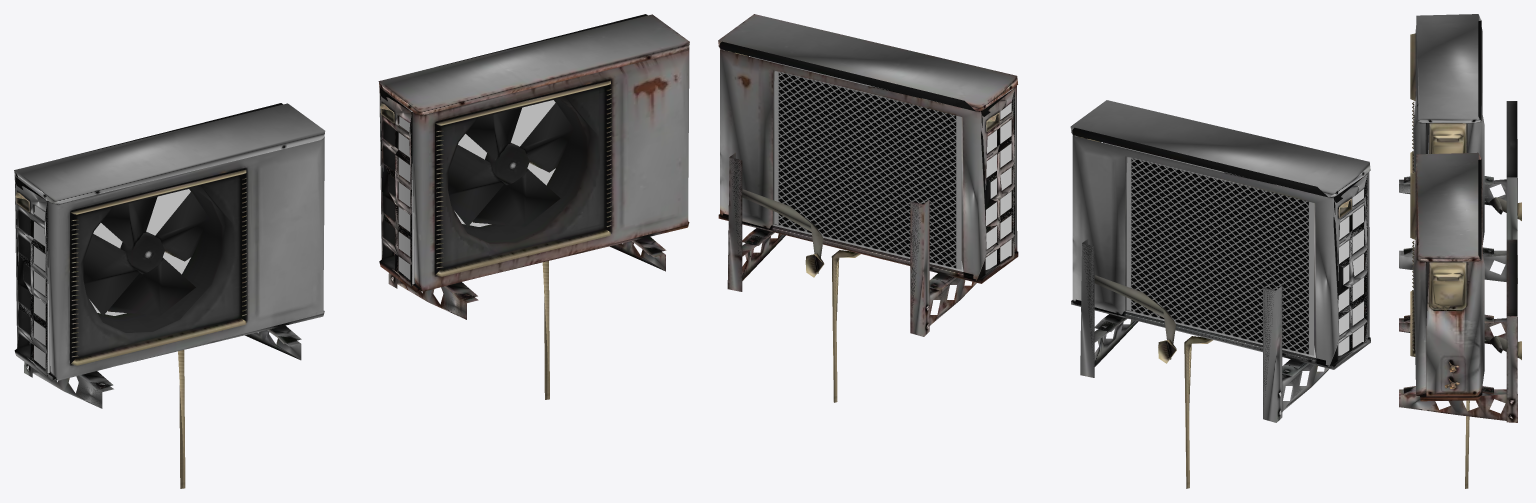
The model's file is exterior_aircon_unit.glb.
3 renders of one model, left to right at view 1: azimuth 30°, elevation 25°; view 2: azimuth 150°, elevation 25°; view 3: azimuth 270°, elevation 25°, orthographic. The views are drawn at different scales.
Parts seen in each view (by area): view 1: exterior_aircon_unit_rusted, exterior_aircon_unit; view 2: exterior_aircon_unit, exterior_aircon_unit_rusted; view 3: exterior_aircon_unit_rusted, exterior_aircon_unit.
Part boxes in pixels (x1,y1,x2,y2): exterior_aircon_unit_rusted: (378, 14, 689, 399); exterior_aircon_unit: (14, 103, 325, 488); exterior_aircon_unit: (1070, 100, 1370, 488); exterior_aircon_unit_rusted: (718, 14, 1018, 402); exterior_aircon_unit_rusted: (1399, 152, 1521, 488); exterior_aircon_unit: (1399, 14, 1521, 283).
Bounding box in the file's own units: 1.8 × 0.9228 × 0.3742.
Materials: 4 (4 with a texture image).
